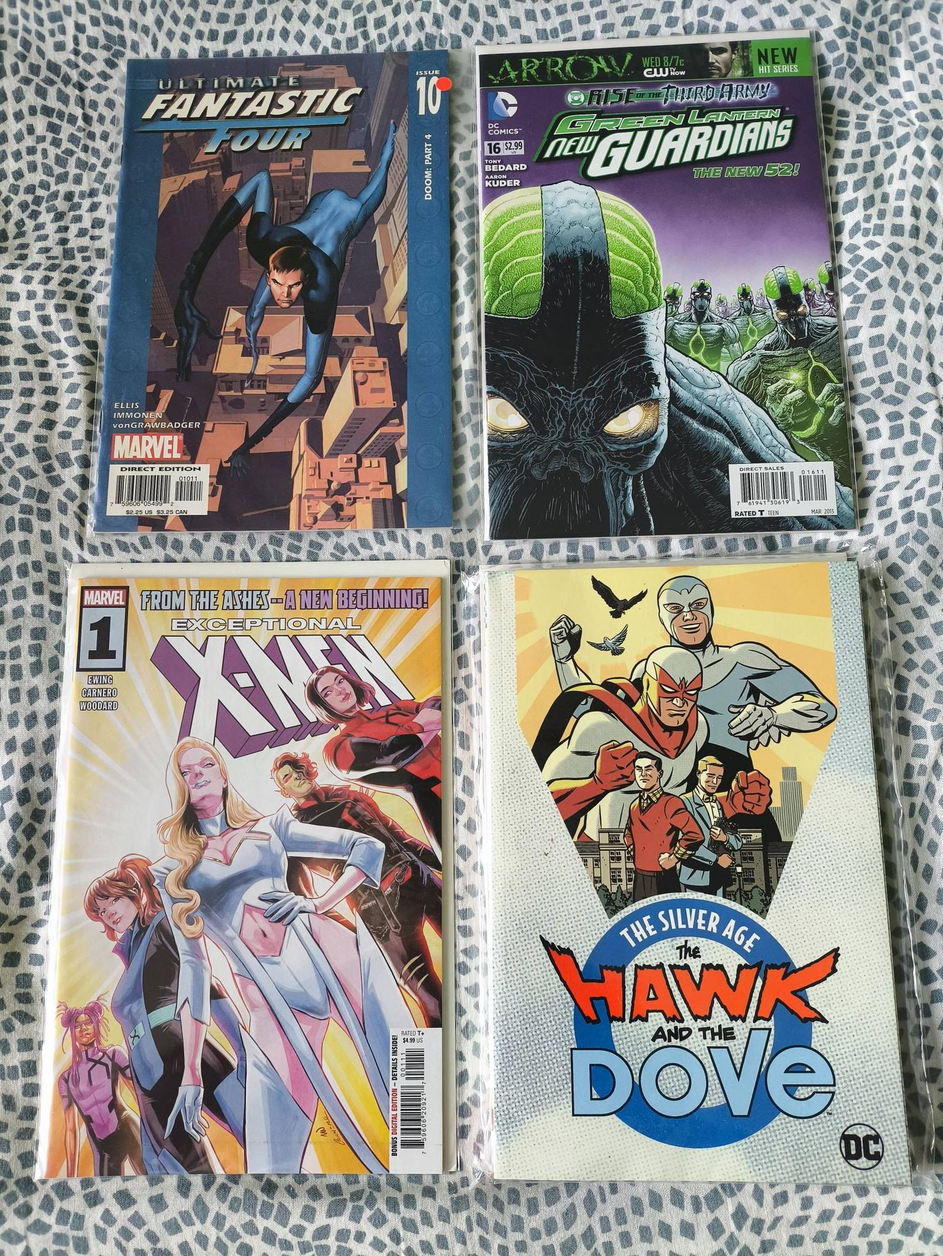comic: (483, 560, 908, 1189), (33, 563, 454, 1176), (470, 29, 855, 542), (93, 52, 451, 531)
